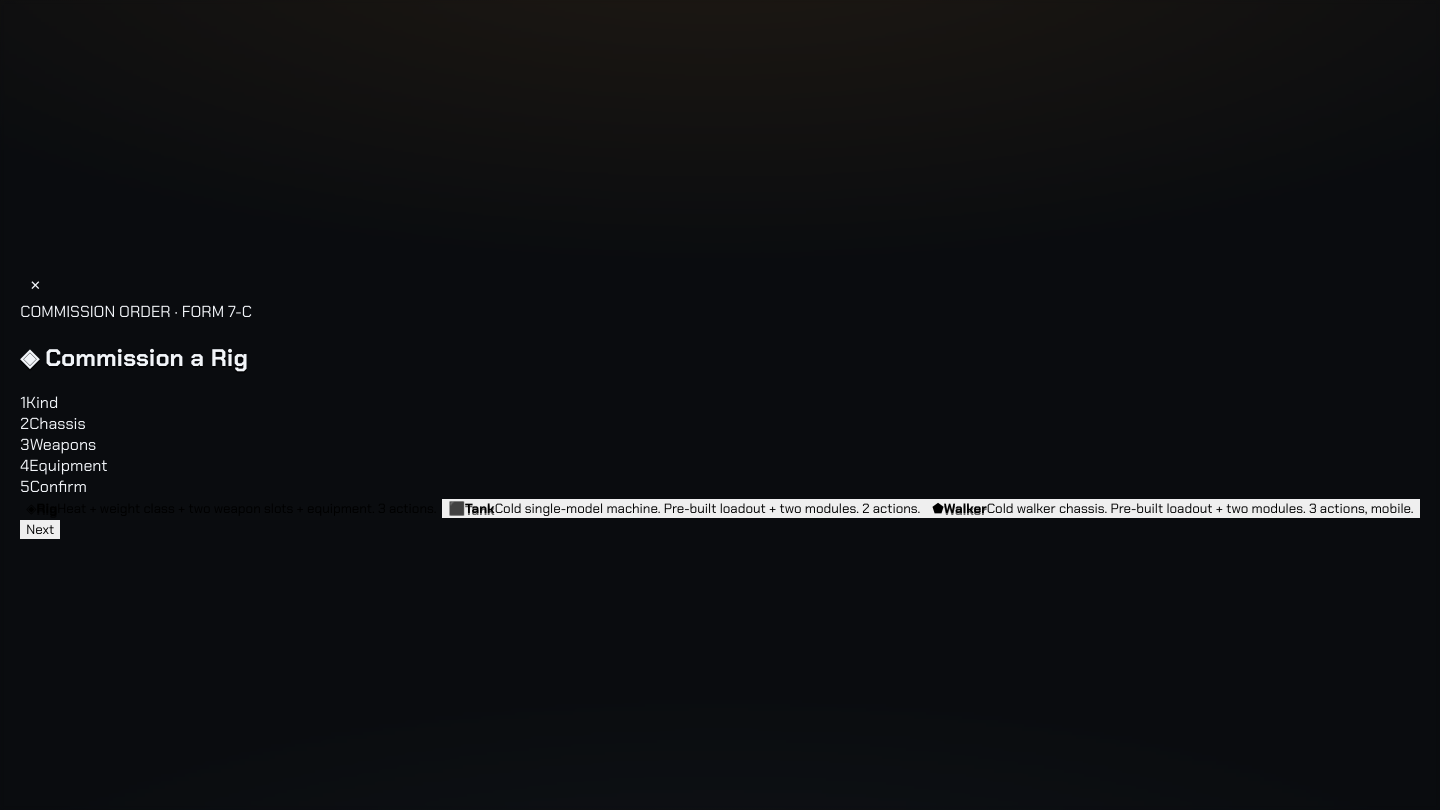
Test case: an equipment Prototype locks both weapon Prototypes
The image size is (1440, 810).
Click the button "Next" at (40,530), box x1=20 y1=520 x2=60 y2=539
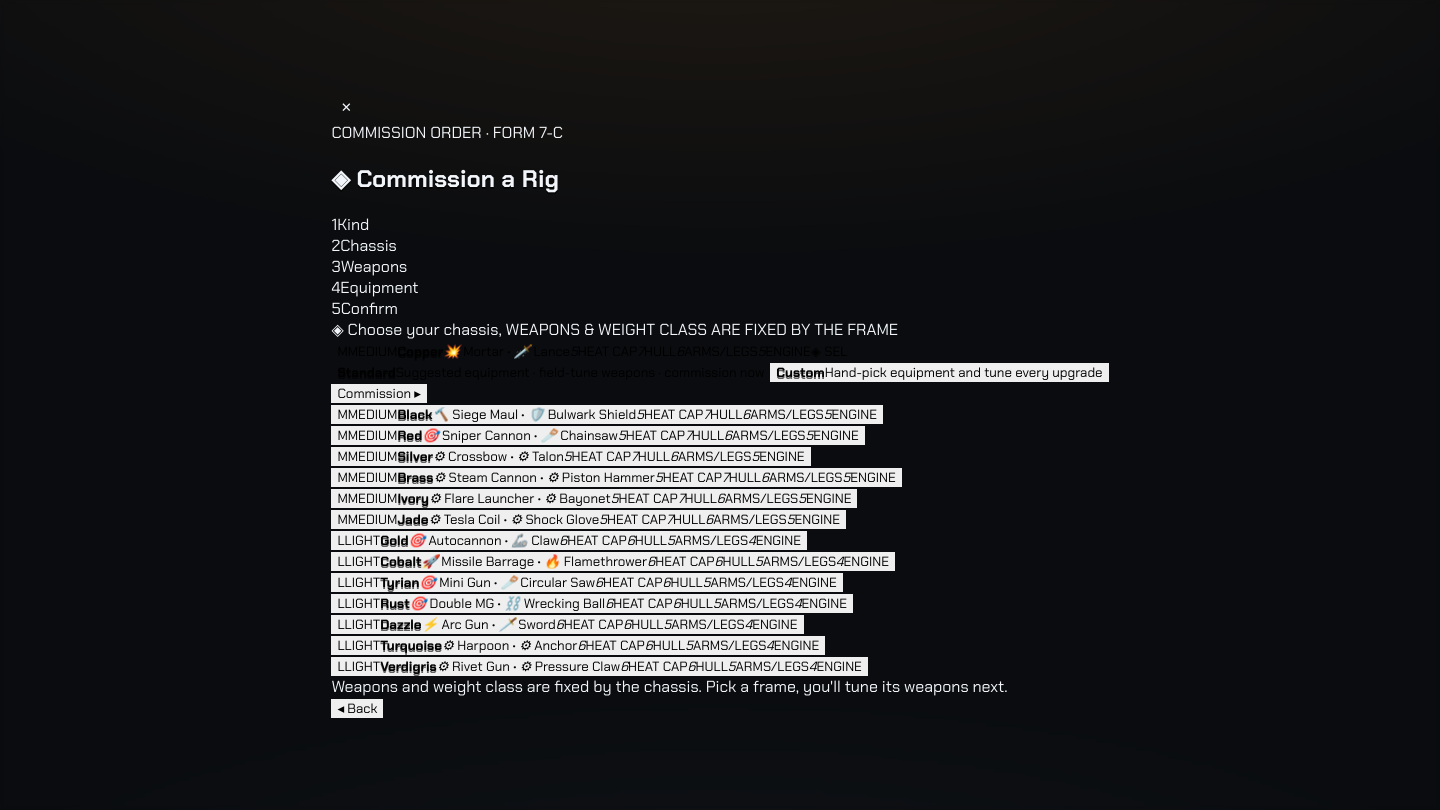
Click the radio button labelled "Custom" at (939,372), box x1=770 y1=363 x2=1109 y2=382
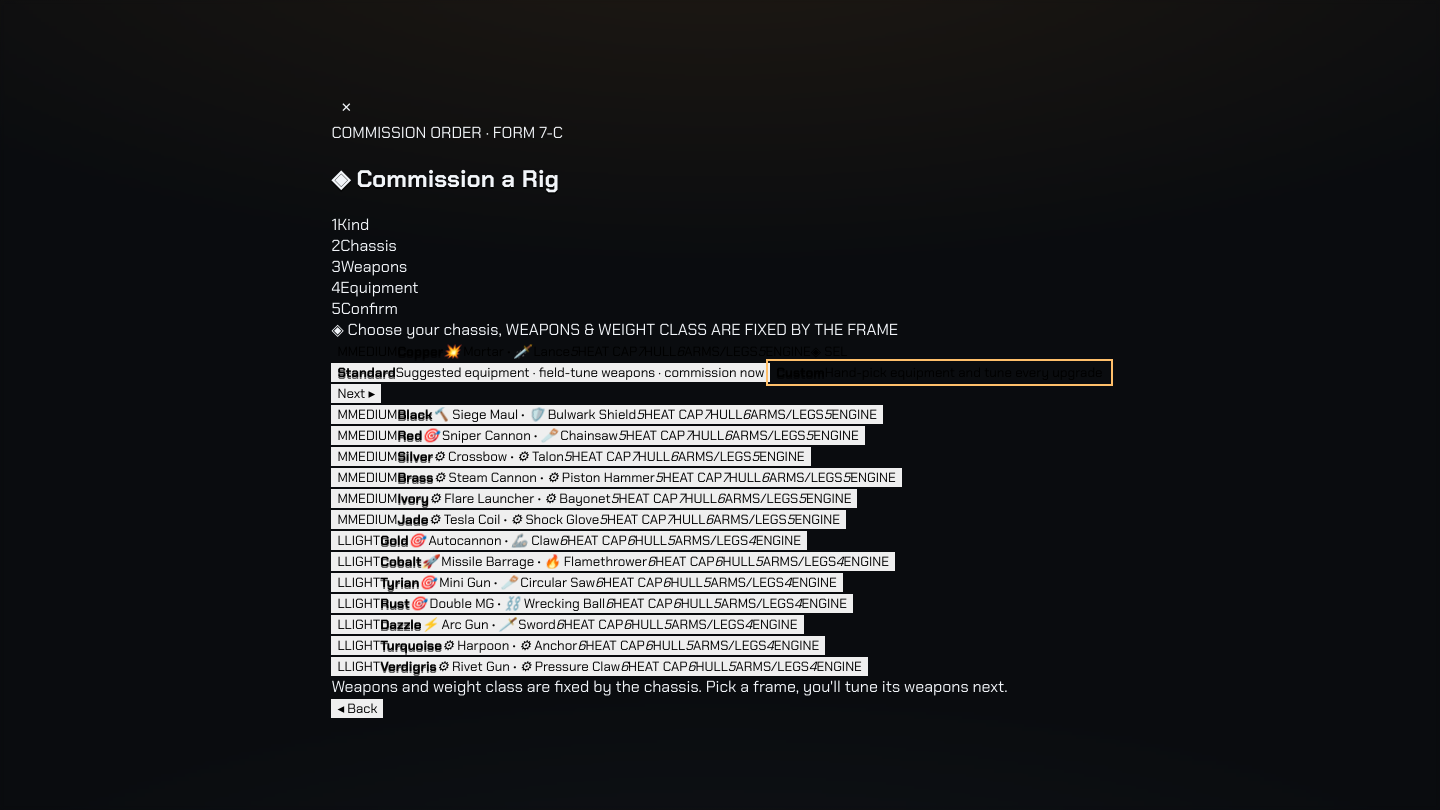
Click the button "Next ▸" at (356,393), box x1=331 y1=384 x2=381 y2=403
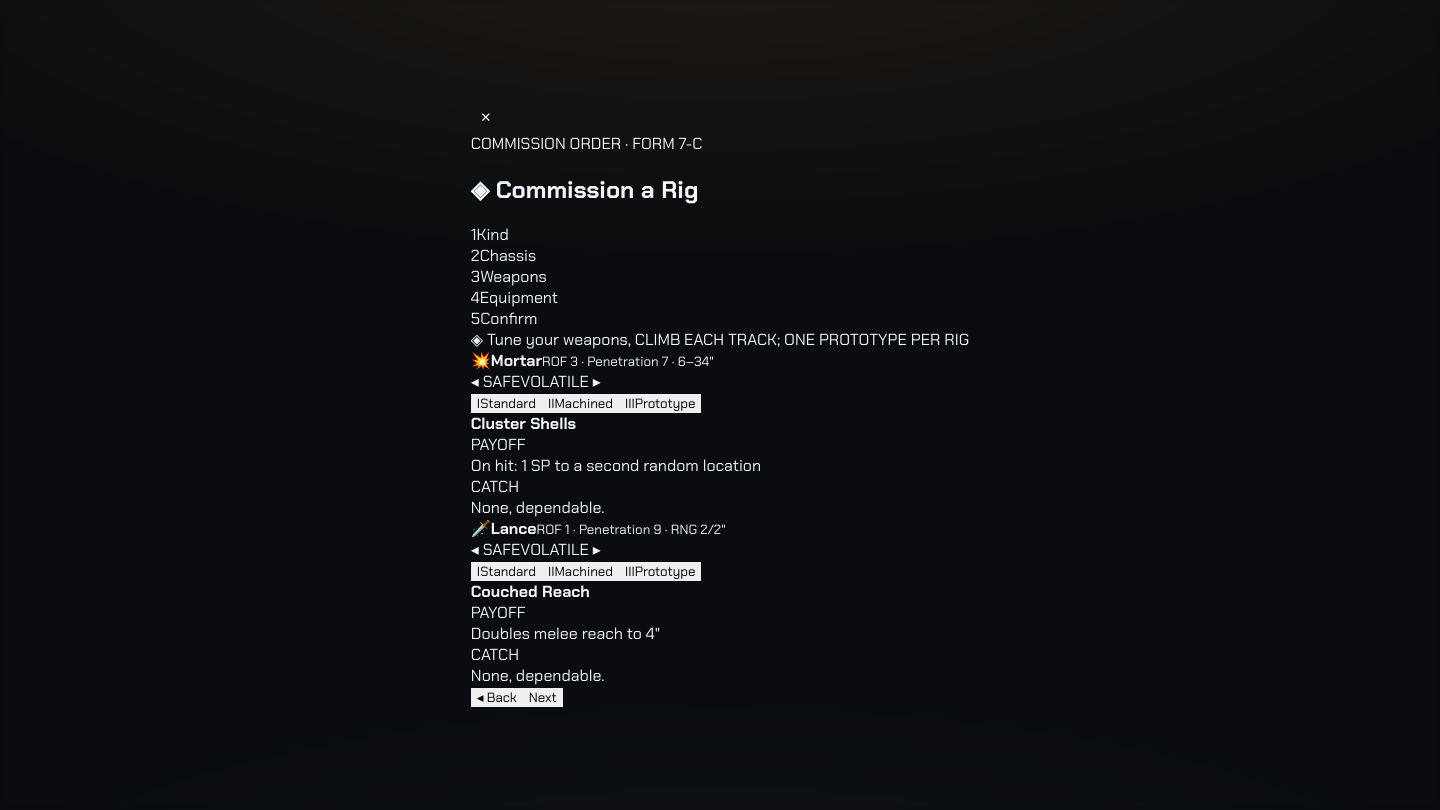
Click the button "Next" at (543,698), box x1=523 y1=688 x2=563 y2=707
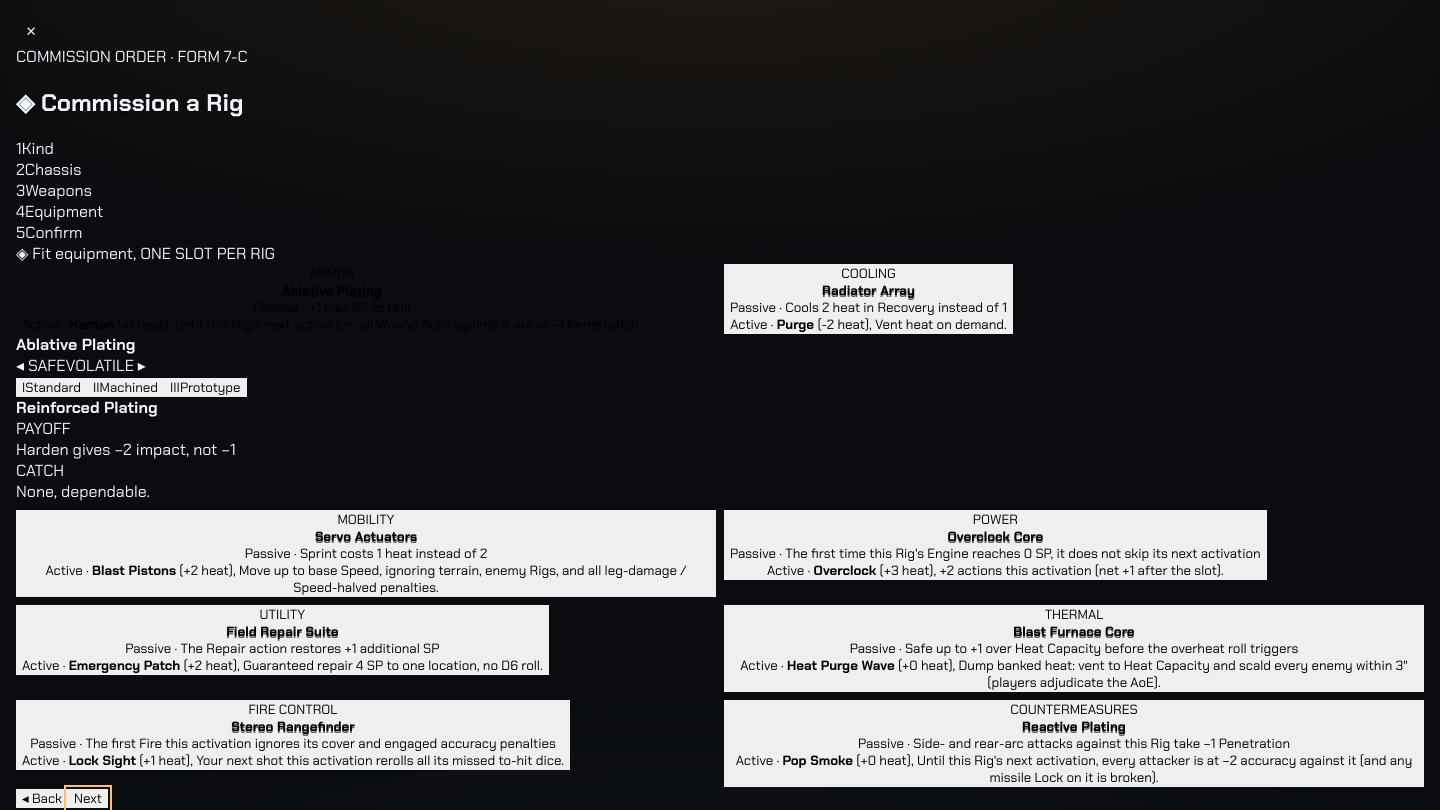
Click the button "Prototype" at (205,387), box x1=164 y1=378 x2=247 y2=397
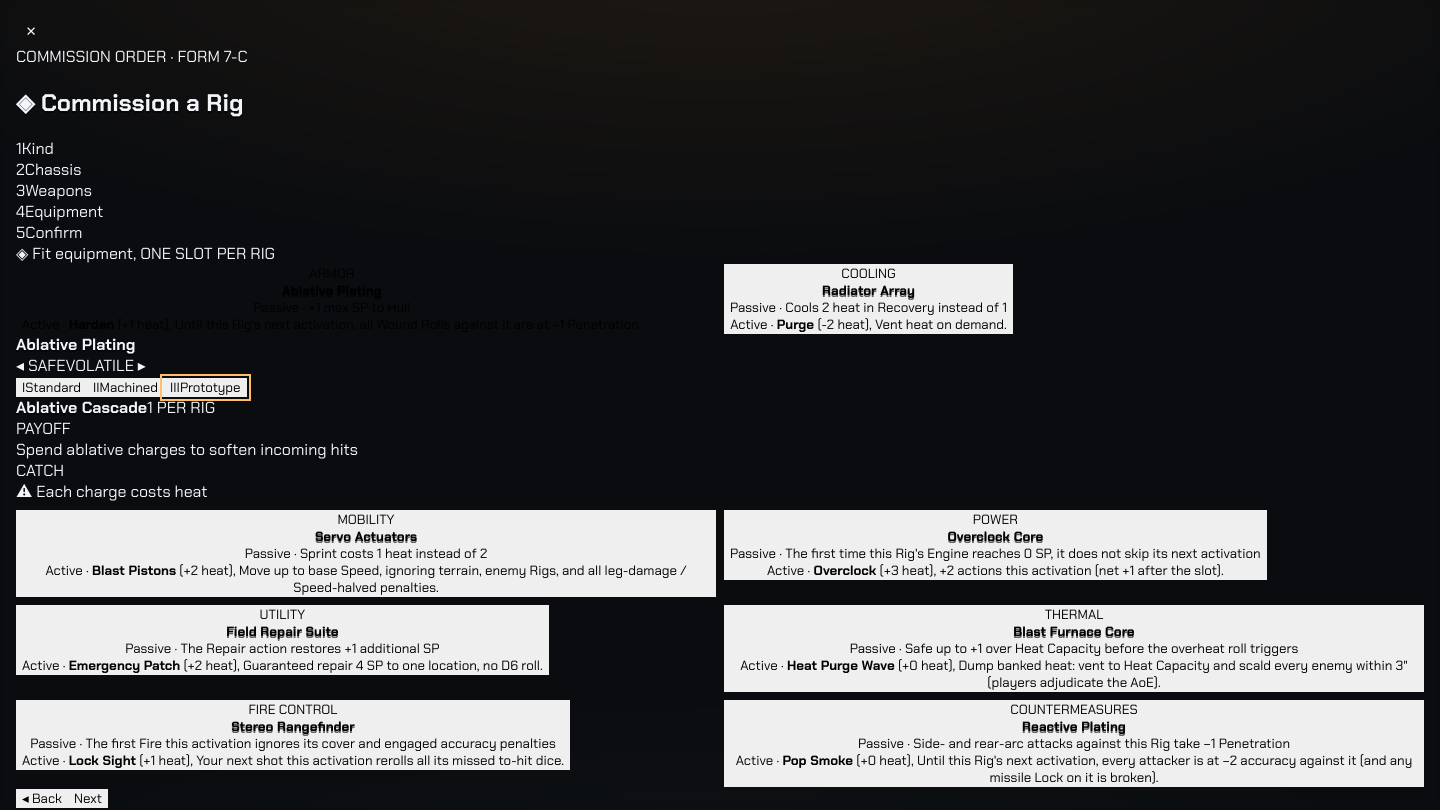
Click the button "◂ Back" at (42,798), box x1=16 y1=789 x2=68 y2=808
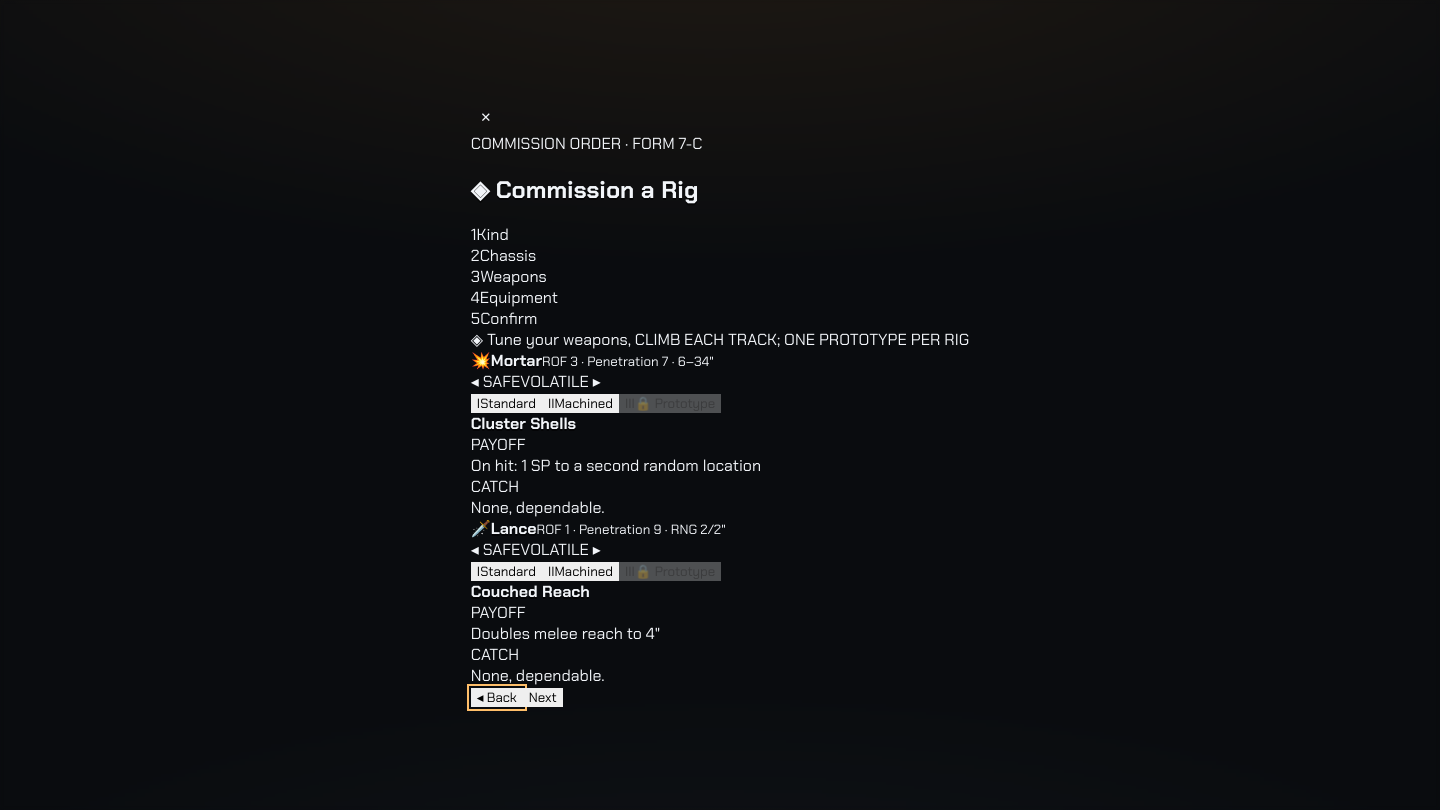
Now the button "III🔒 Prototype" below "Mortar" is disabled, box x1=619 y1=394 x2=721 y2=413
Now the button "III🔒 Prototype" below "Lance" is disabled, box x1=619 y1=562 x2=721 y2=581
